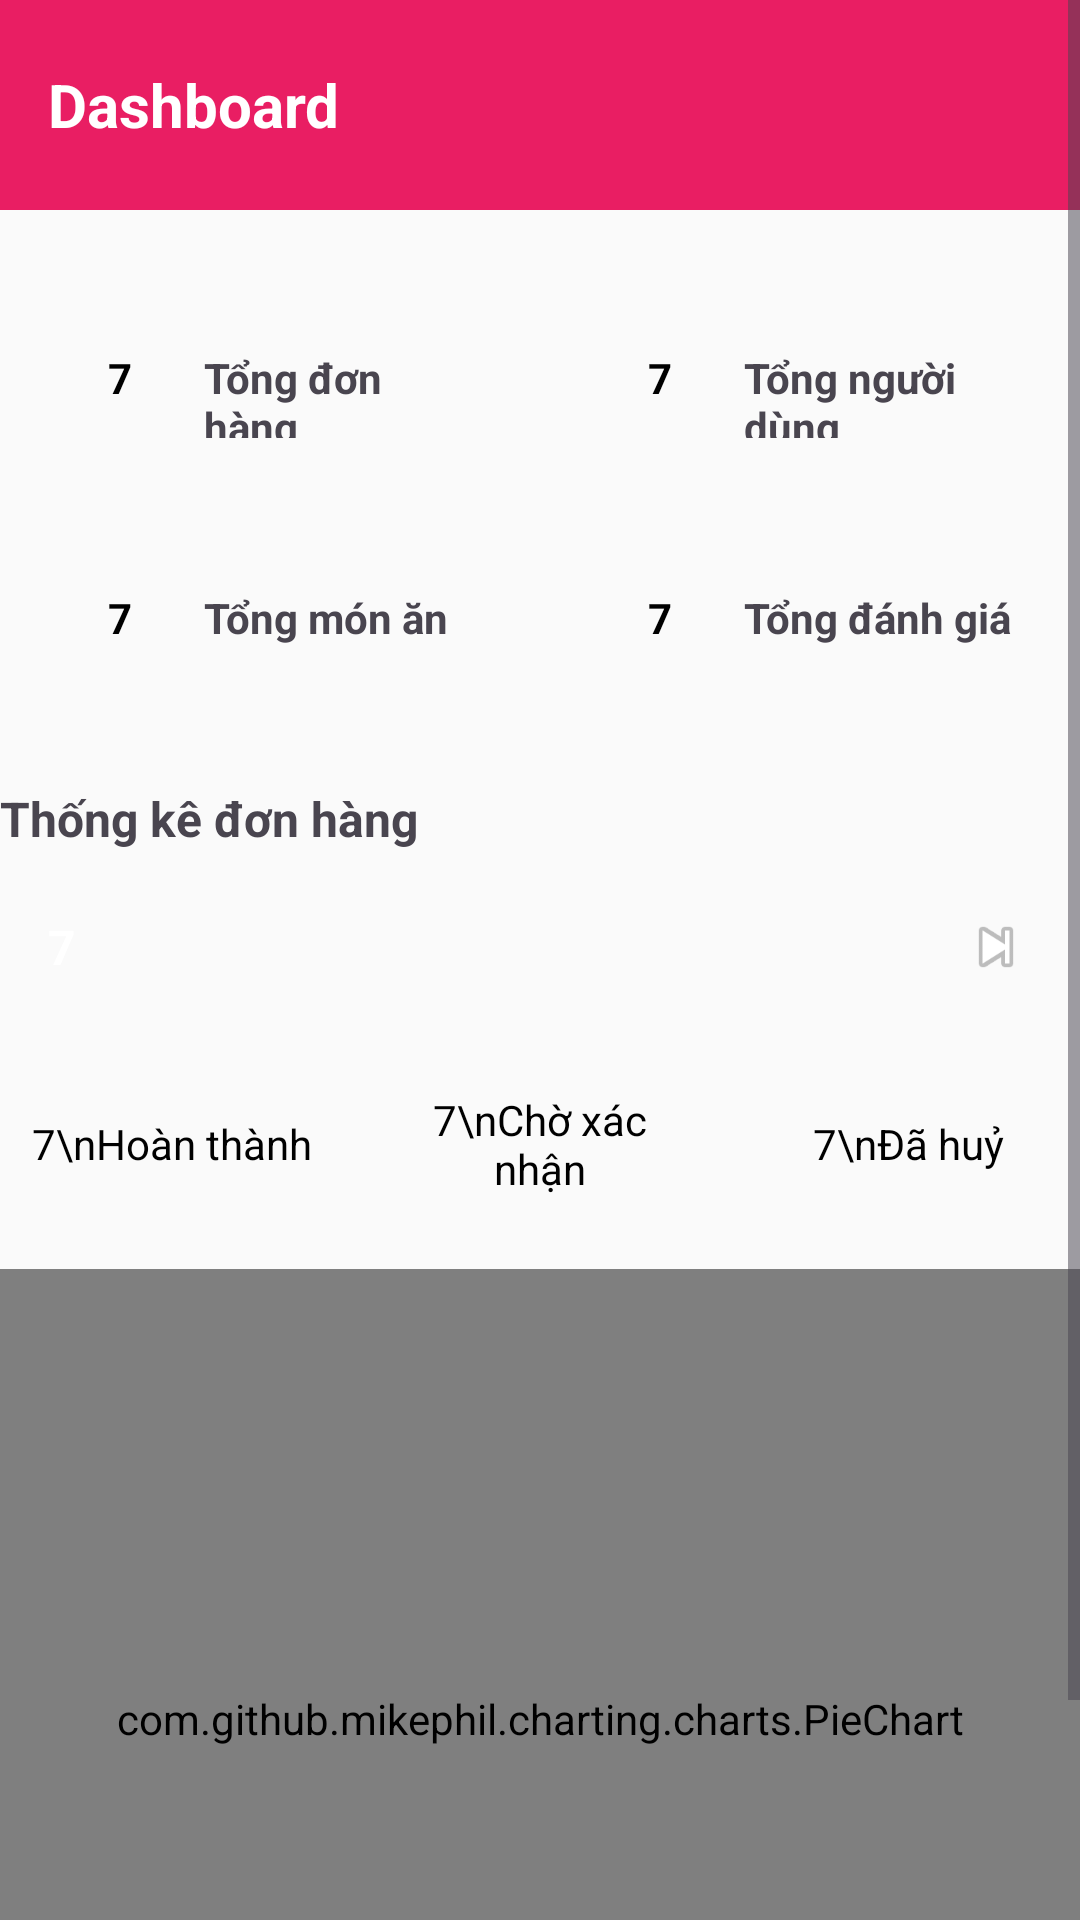

Where icons sit on this 1080w x 1920h app screen, as Rect(x1, y1, x2, y2):
next: Rect(979, 927, 1013, 967)
